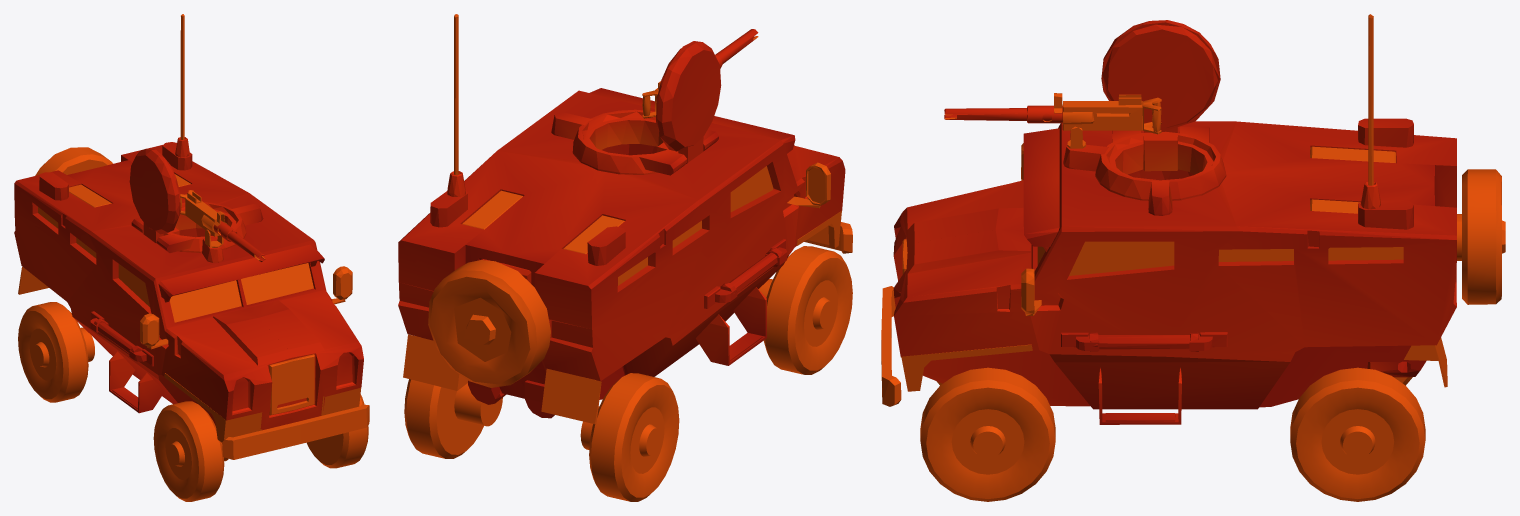
The model's file is WbReconLowpoly2.fbx.
3 views of the same model, side by side, from view 1: azimuth 30°, elevation 25°; view 2: azimuth 150°, elevation 25°; view 3: azimuth 270°, elevation 25° (orthographic). The views are drawn at different scales.
Parts seen in each view (by area): view 1: Body.003, Wheel, WheelSteeringGroupA.005, WheelSteeringGroupA.004, BarrelMachineGun; view 2: Body.003, Wheel, WheelSteeringGroupA.005, Wheel.059, BarrelMachineGun; view 3: Body.003, Wheel.059, WheelSteeringGroupA.004, BarrelMachineGun.
Boxes of the visible parts, x1,y1,x2,y2 form: Body.003: (14,14,369,459); Wheel: (18,302,94,402); WheelSteeringGroupA.005: (153,401,228,501); WheelSteeringGroupA.004: (307,394,368,468); BarrelMachineGun: (180,190,265,261); Body.003: (398,14,852,424); Wheel: (580,373,679,501); WheelSteeringGroupA.005: (758,246,852,374); Wheel.059: (404,379,502,458); BarrelMachineGun: (642,29,758,118); Body.003: (881,14,1505,424); Wheel.059: (1290,367,1425,501); WheelSteeringGroupA.004: (920,367,1055,501); BarrelMachineGun: (944,93,1161,134).
Size of the model in its own units: 0.4006 by 0.6355 by 0.7565.
